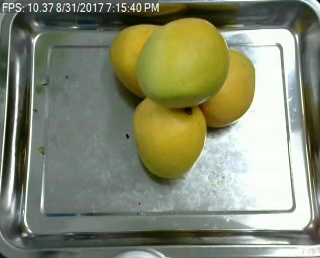Mango: (134, 16, 228, 108), (129, 96, 206, 180), (108, 24, 183, 101), (193, 50, 255, 126)
